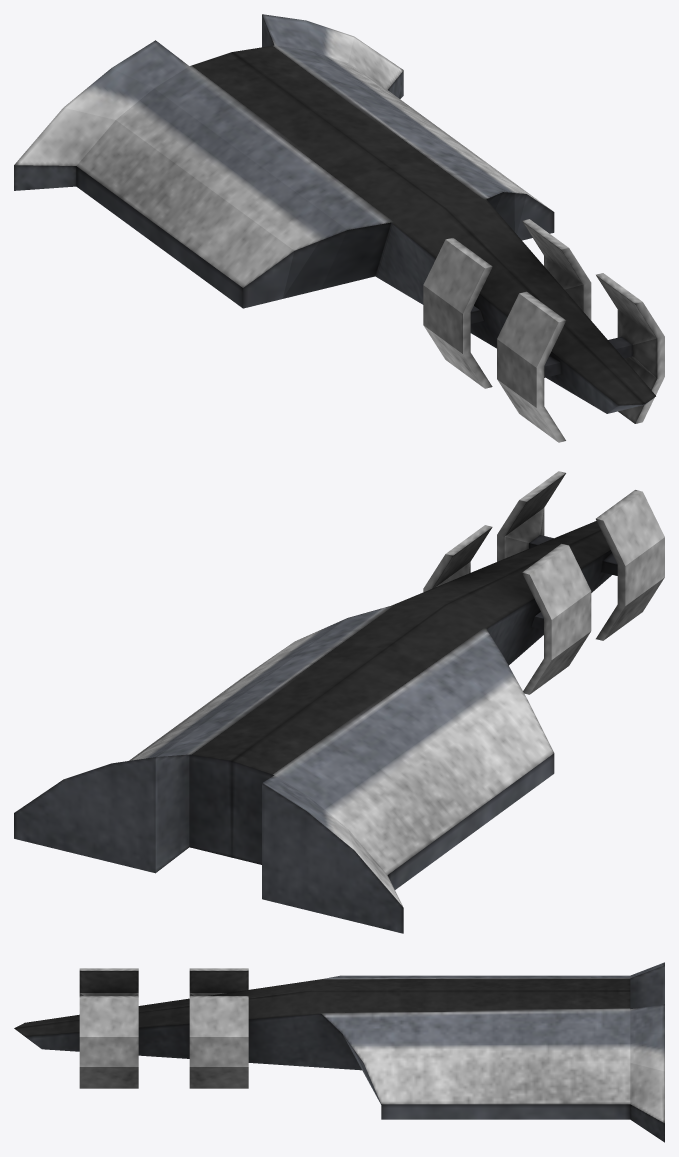
File: Repubblica_2.fbx
The picture shows the model from 3 angles, top to bottom: view 1: azimuth 30°, elevation 25°; view 2: azimuth 150°, elevation 25°; view 3: azimuth 270°, elevation 25°; orthographic projection. The views are drawn at different scales.
Visible parts, largest first — view 1: Texture, Colore1; view 2: Texture, Colore1; view 3: Texture, Colore1.
Part boxes in pixels (bbox=[...]): Texture: bbox=[14, 14, 655, 413]; Colore1: bbox=[14, 29, 664, 442]; Texture: bbox=[14, 521, 611, 933]; Colore1: bbox=[129, 471, 664, 906]; Texture: bbox=[14, 962, 664, 1142]; Colore1: bbox=[79, 968, 664, 1123].
Bounding box in the file's own units: 3.16 × 0.9338 × 6.13.
2 materials, 2 textured.
